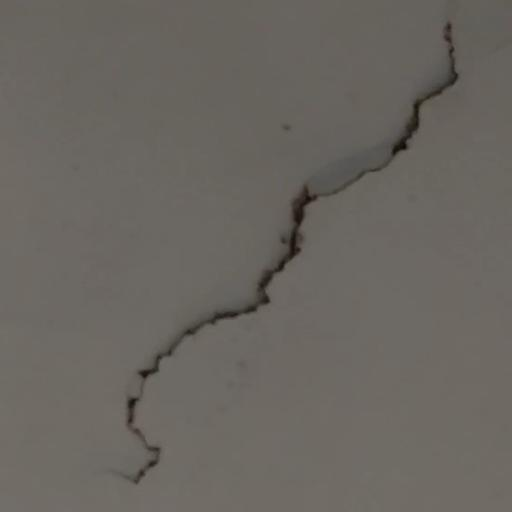major_crack: (114, 5, 471, 496)
